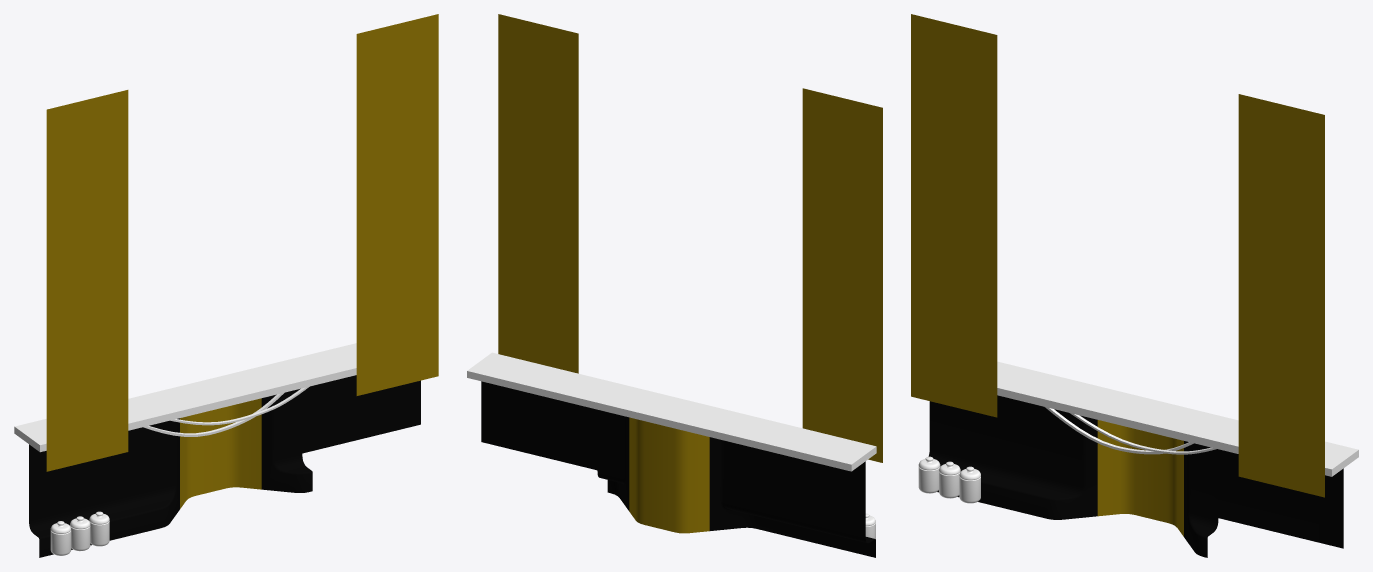
File: DecorMachine_Pastry_Wall.FBX
The picture shows the model from 3 angles, left to right: view 1: azimuth 30°, elevation 25°; view 2: azimuth 150°, elevation 25°; view 3: azimuth 330°, elevation 25°; orthographic projection. The views are drawn at different scales.
Parts seen in each view (by area): view 1: DecorMachine_Pastry_Wall; view 2: DecorMachine_Pastry_Wall; view 3: DecorMachine_Pastry_Wall.
Part boxes in pixels (x1=…): DecorMachine_Pastry_Wall: x1=14, y1=14, x2=438, y2=557; DecorMachine_Pastry_Wall: x1=467, y1=14, x2=882, y2=557; DecorMachine_Pastry_Wall: x1=911, y1=14, x2=1358, y2=557.
Size of the model in its own units: 52687 by 58260 by 8305.
